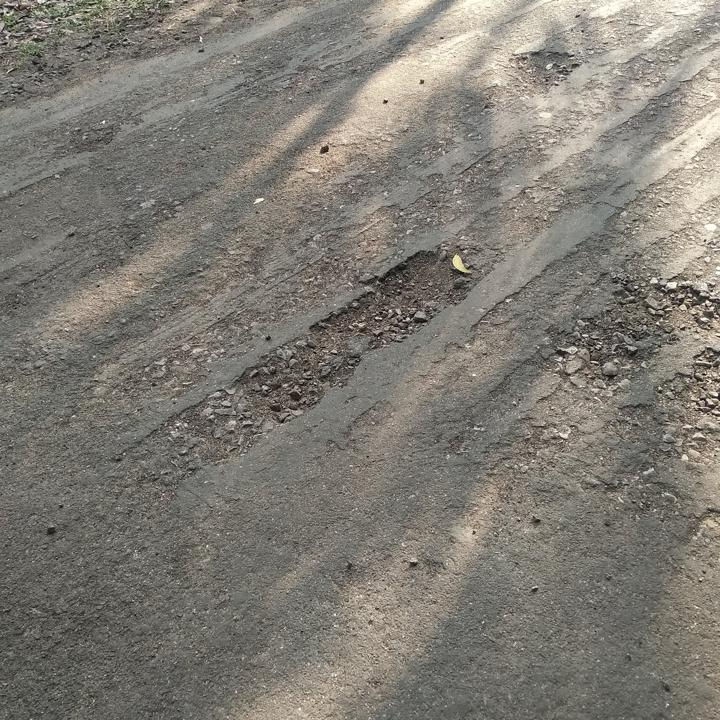pothole: (234, 243, 492, 426), (547, 272, 720, 394), (653, 345, 720, 420), (505, 44, 585, 101)
